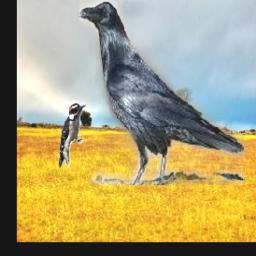Crow: (78, 0, 244, 185)
Woodpecker: (59, 102, 87, 167)
